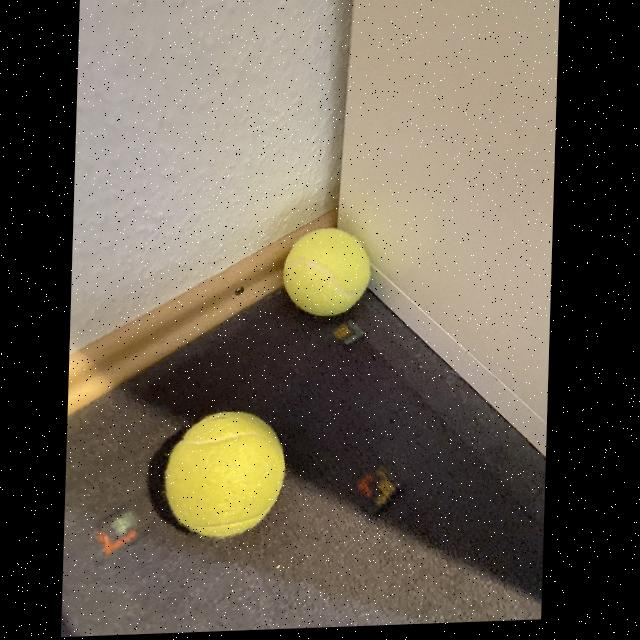Tennisball: (165, 412, 285, 538), (284, 228, 370, 316)
